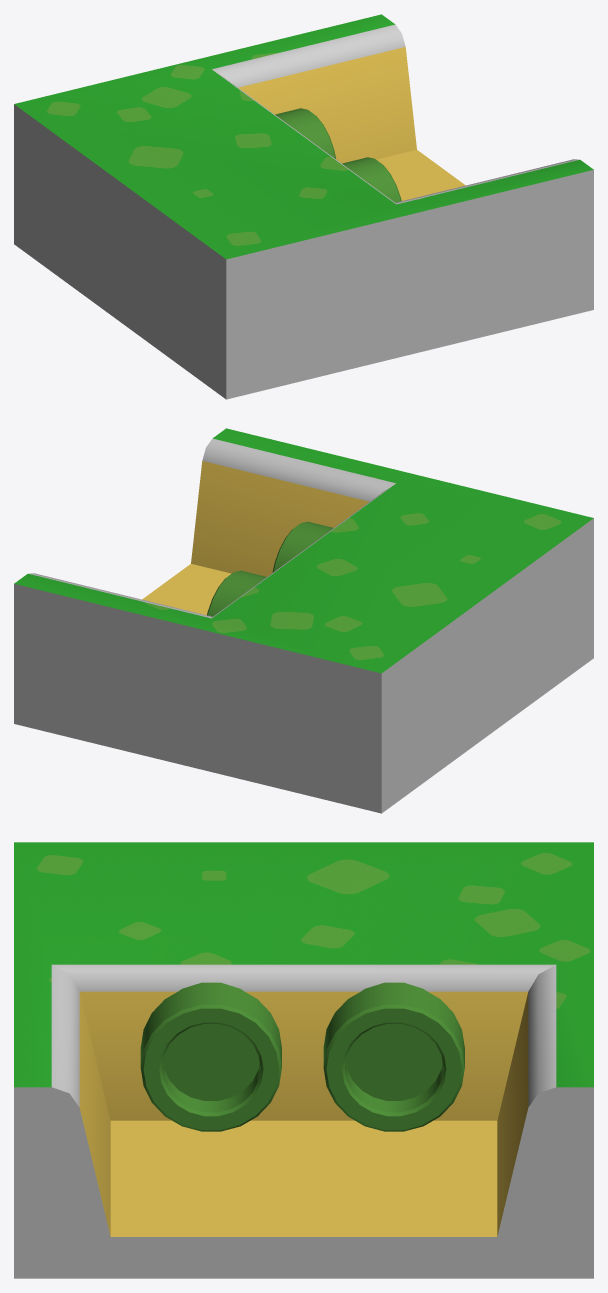
Rendered from RiverTile_4_1.fbx.
The picture shows the model from 3 angles, top to bottom: view 1: azimuth 30°, elevation 25°; view 2: azimuth 150°, elevation 25°; view 3: azimuth 270°, elevation 25°; orthographic projection. The views are drawn at different scales.
Parts seen in each view (by area): view 1: RiverTile_4_1; view 2: RiverTile_4_1; view 3: RiverTile_4_1.
Part boxes in pixels (x1,y1,x2,y2): RiverTile_4_1: (14,14,593,399); RiverTile_4_1: (14,428,593,813); RiverTile_4_1: (14,842,593,1278).
Bounding box in the file's own units: 4 × 1.46 × 4.
